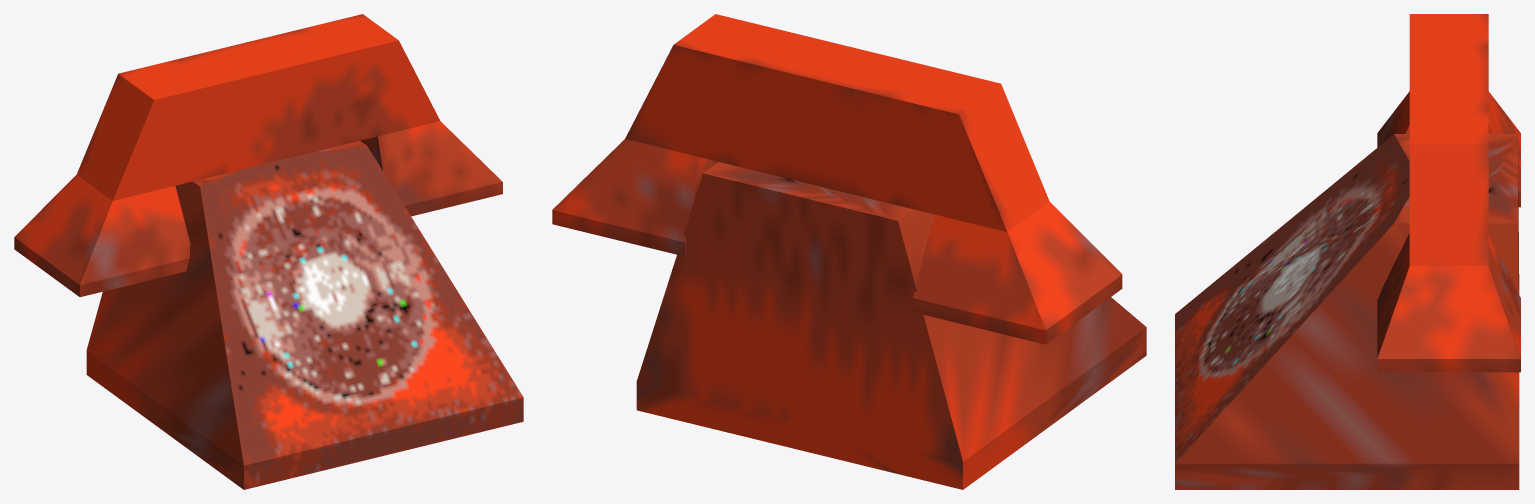
File: phone.fbx
The picture shows the model from 3 angles, left to right: view 1: azimuth 30°, elevation 25°; view 2: azimuth 150°, elevation 25°; view 3: azimuth 270°, elevation 25°; orthographic projection. The views are drawn at different scales.
Visible parts, largest first — view 1: Cube.003; view 2: Cube.003; view 3: Cube.003.
Part boxes in pixels (x1,y1,x2,y2): Cube.003: (14, 14, 523, 489); Cube.003: (552, 14, 1146, 489); Cube.003: (1175, 14, 1520, 489).
Size of the model in its own units: 49.75 by 34.51 by 32.2.
Materials: 1 (1 with a texture image).
